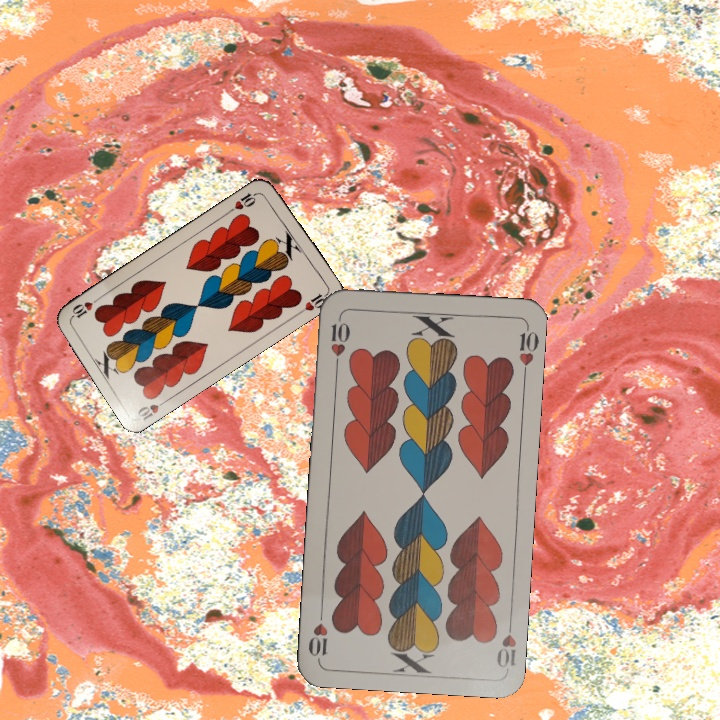H10: (492, 613, 519, 670), (326, 312, 352, 371), (134, 395, 172, 423), (225, 188, 262, 215)
